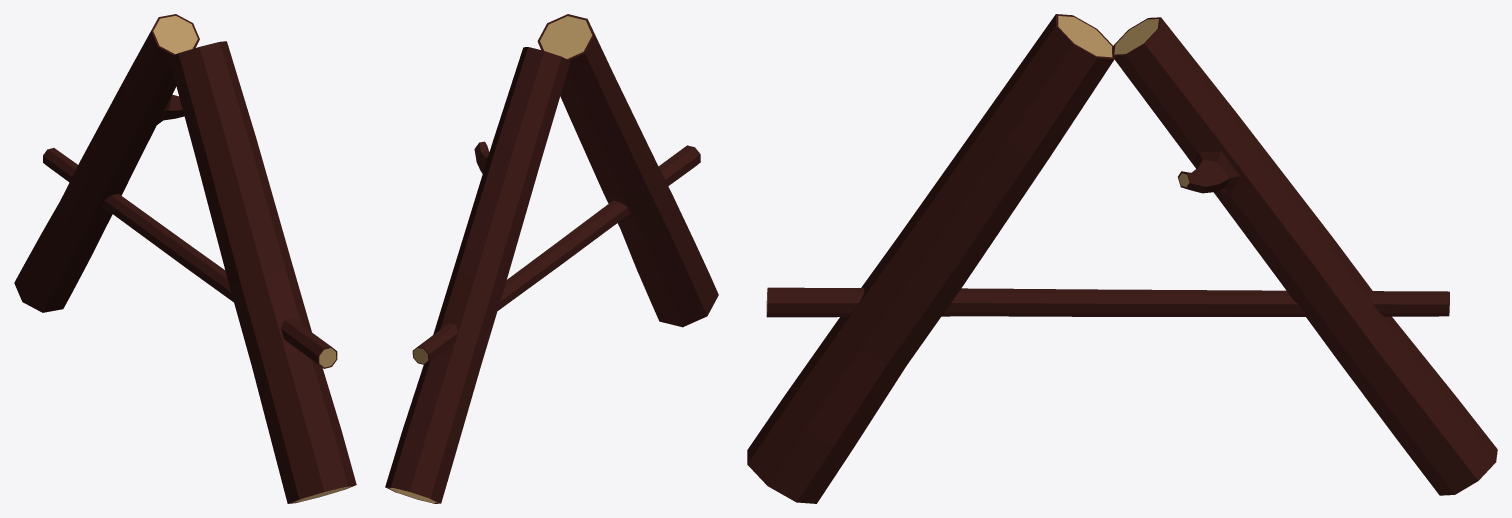
File: SM_WoodFence_001.fbx
3 renders of one model, left to right at view 1: azimuth 30°, elevation 25°; view 2: azimuth 150°, elevation 25°; view 3: azimuth 270°, elevation 25°, orthographic. The views are drawn at different scales.
Visible parts, largest first — view 1: WoodenFence_01; view 2: WoodenFence_01; view 3: WoodenFence_01.
Boxes of the visible parts, x1=… form: WoodenFence_01: x1=14, y1=14, x2=356, y2=503; WoodenFence_01: x1=385, y1=14, x2=718, y2=503; WoodenFence_01: x1=747, y1=14, x2=1497, y2=503.
Size of the model in its own units: 20.79 by 98.4 by 141.
